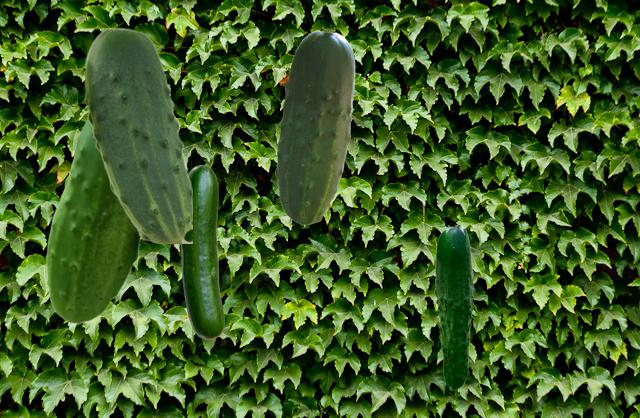cucumber: (84, 27, 191, 242), (46, 117, 141, 323), (275, 30, 354, 224), (180, 165, 223, 338), (434, 224, 474, 389)
